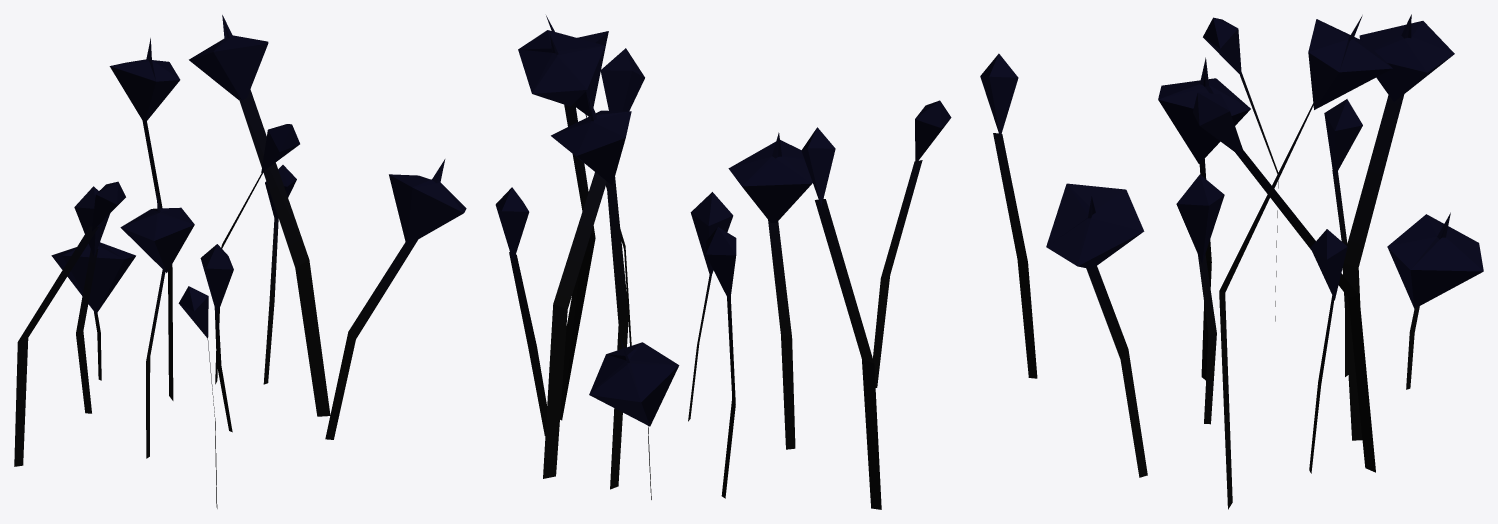
Rendered from PatchTulip03.fbx.
3 renders of one model, left to right at view 1: azimuth 30°, elevation 25°; view 2: azimuth 150°, elevation 25°; view 3: azimuth 270°, elevation 25°, orthographic. The views are drawn at different scales.
Parts seen in each view (by area): view 1: PatchTulip03; view 2: PatchTulip03; view 3: PatchTulip03.
Boxes of the visible parts, x1=… form: PatchTulip03: x1=14, y1=15, x2=466, y2=508; PatchTulip03: x1=495, y1=15, x2=951, y2=509; PatchTulip03: x1=980, y1=14, x2=1483, y2=509.
Size of the model in its own units: 58.38 by 56.17 by 55.32.
